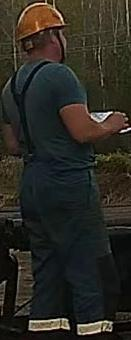helmet: (14, 1, 69, 41)
